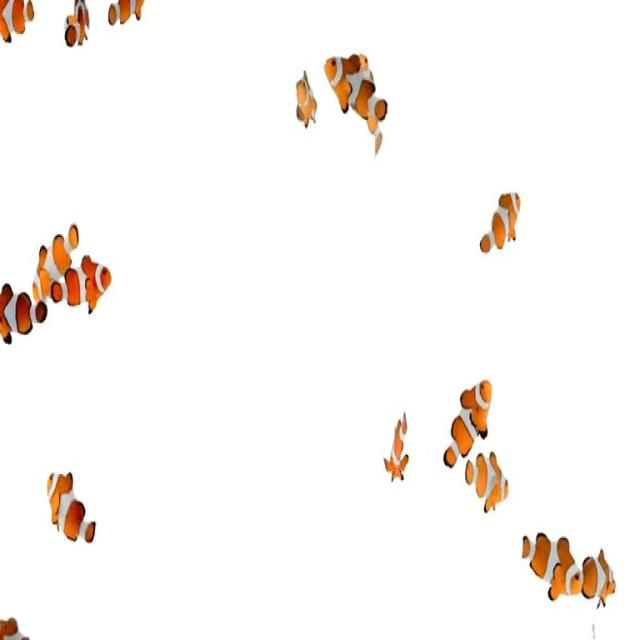fish: (524, 512, 588, 619), (326, 46, 391, 144), (42, 458, 93, 561), (473, 182, 527, 272), (447, 364, 492, 464), (50, 256, 126, 304), (30, 229, 79, 298), (0, 276, 52, 340), (578, 532, 620, 607), (466, 444, 506, 521), (381, 411, 412, 510), (64, 1, 96, 56), (103, 0, 148, 34), (1, 0, 35, 43)
